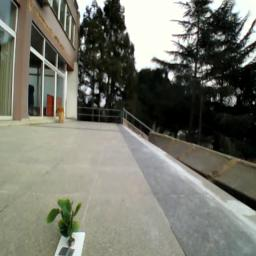herb: (48, 198, 84, 240)
